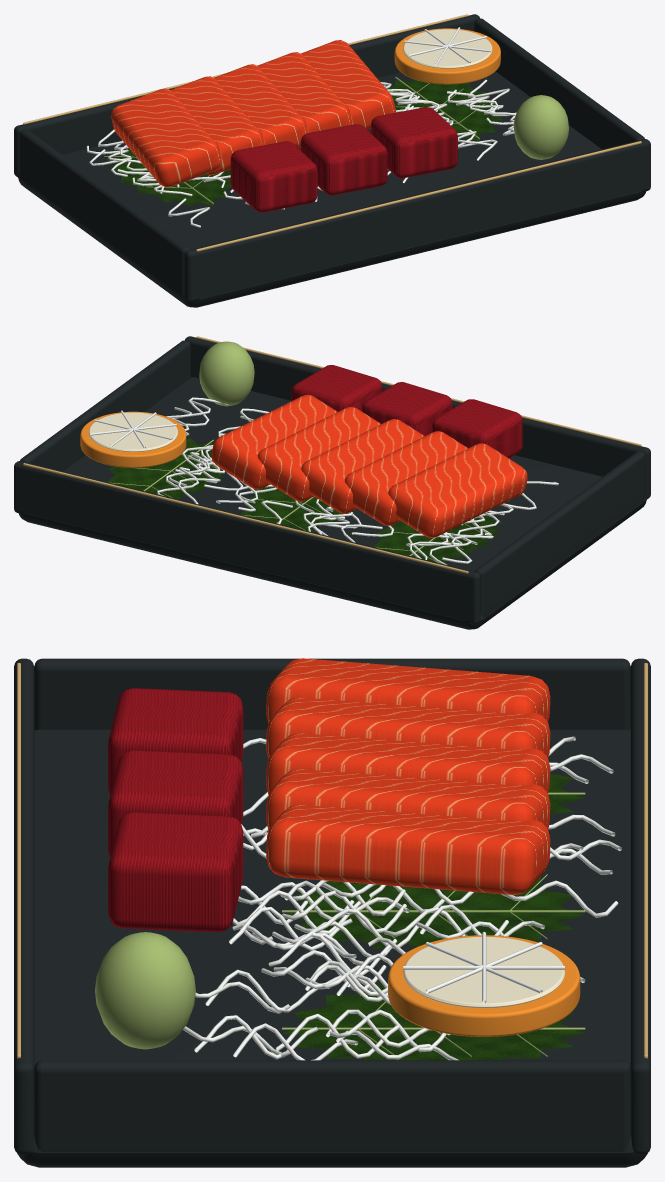
Rendered from 11_Sashimi_Selection.glb.
3 views of the same model, one above another, from view 1: azimuth 30°, elevation 25°; view 2: azimuth 150°, elevation 25°; view 3: azimuth 270°, elevation 25° (orthographic). The views are drawn at different scales.
Parts seen in each view (by area): view 1: SM_Lacquer tray rim.002, SM_Lacquer tray base.001, SM_Lacquer tray end.002, SM_Salmon sashimi, SM_Lacquer tray end.003, SM_Lacquer tray rim.003, SM_Tuna sashimi, SM_Tuna sashimi.001, SM_Tuna sashimi.002, SM_Salmon sashimi.004, SM_Salmon sashimi.001, SM_Salmon sashimi.002 (+8 smaller); view 2: SM_Lacquer tray rim.003, SM_Lacquer tray base.001, SM_Lacquer tray end.002, SM_Salmon sashimi, SM_Lacquer tray rim.002, SM_Lacquer tray end.003, SM_Salmon sashimi.004, SM_Salmon sashimi.003, SM_Salmon sashimi.001, SM_Salmon sashimi.002, SM_Tuna sashimi, SM_Tuna sashimi.001 (+9 smaller); view 3: SM_Lacquer tray base.001, SM_Lacquer tray end.003, SM_Lacquer tray end.002, SM_Salmon sashimi.004, SM_Tuna sashimi.002, SM_Salmon sashimi, SM_Salmon sashimi.002, SM_Salmon sashimi.003, SM_Salmon sashimi.001, SM_Wasabi mound, SM_Serrated shiso.004, SM_Lacquer tray rim.002 (+9 smaller).
Boxes of the visible parts, box(x1,y1,x2,y2) form: SM_Lacquer tray rim.002: box(184, 139, 650, 302); SM_Lacquer tray base.001: box(18, 71, 645, 307); SM_Lacquer tray end.002: box(19, 129, 190, 295); SM_Salmon sashimi: box(111, 88, 221, 187); SM_Lacquer tray end.003: box(474, 18, 644, 149); SM_Lacquer tray rim.003: box(14, 14, 479, 177); SM_Tuna sashimi: box(230, 141, 317, 212); SM_Tuna sashimi.001: box(301, 124, 387, 195); SM_Tuna sashimi.002: box(371, 107, 457, 178); SM_Salmon sashimi.004: box(301, 40, 395, 129); SM_Salmon sashimi.001: box(170, 76, 264, 175); SM_Salmon sashimi.002: box(214, 64, 308, 147); SM_Lacquer tray rim.003: box(14, 461, 480, 624); SM_Lacquer tray base.001: box(19, 377, 646, 629); SM_Lacquer tray end.002: box(474, 451, 645, 617); SM_Salmon sashimi: box(388, 443, 527, 537); SM_Lacquer tray rim.002: box(185, 336, 650, 499); SM_Lacquer tray end.003: box(20, 340, 190, 471); SM_Salmon sashimi.004: box(211, 394, 337, 489); SM_Salmon sashimi.003: box(257, 406, 380, 501); SM_Salmon sashimi.001: box(344, 431, 468, 525); SM_Salmon sashimi.002: box(301, 419, 424, 513); SM_Tuna sashimi: box(432, 399, 522, 458); SM_Tuna sashimi.001: box(362, 382, 452, 435); SM_Lacquer tray base.001: box(17, 729, 647, 1167); SM_Lacquer tray end.003: box(34, 1060, 630, 1151); SM_Lacquer tray end.002: box(34, 658, 630, 729); SM_Salmon sashimi.004: box(266, 804, 550, 894); SM_Tuna sashimi.002: box(108, 812, 243, 932); SM_Salmon sashimi: box(266, 658, 550, 723); SM_Salmon sashimi.002: box(266, 733, 550, 794); SM_Salmon sashimi.003: box(266, 769, 550, 830); SM_Salmon sashimi.001: box(266, 697, 550, 758); SM_Wasabi mound: box(95, 932, 195, 1049); SM_Serrated shiso.004: box(287, 877, 584, 948); SM_Lacquer tray rim.002: box(14, 658, 34, 1154).
Size of the model in its own units: 0.192 by 0.0402 by 0.126.
Materials: 9 (3 with a texture image).
